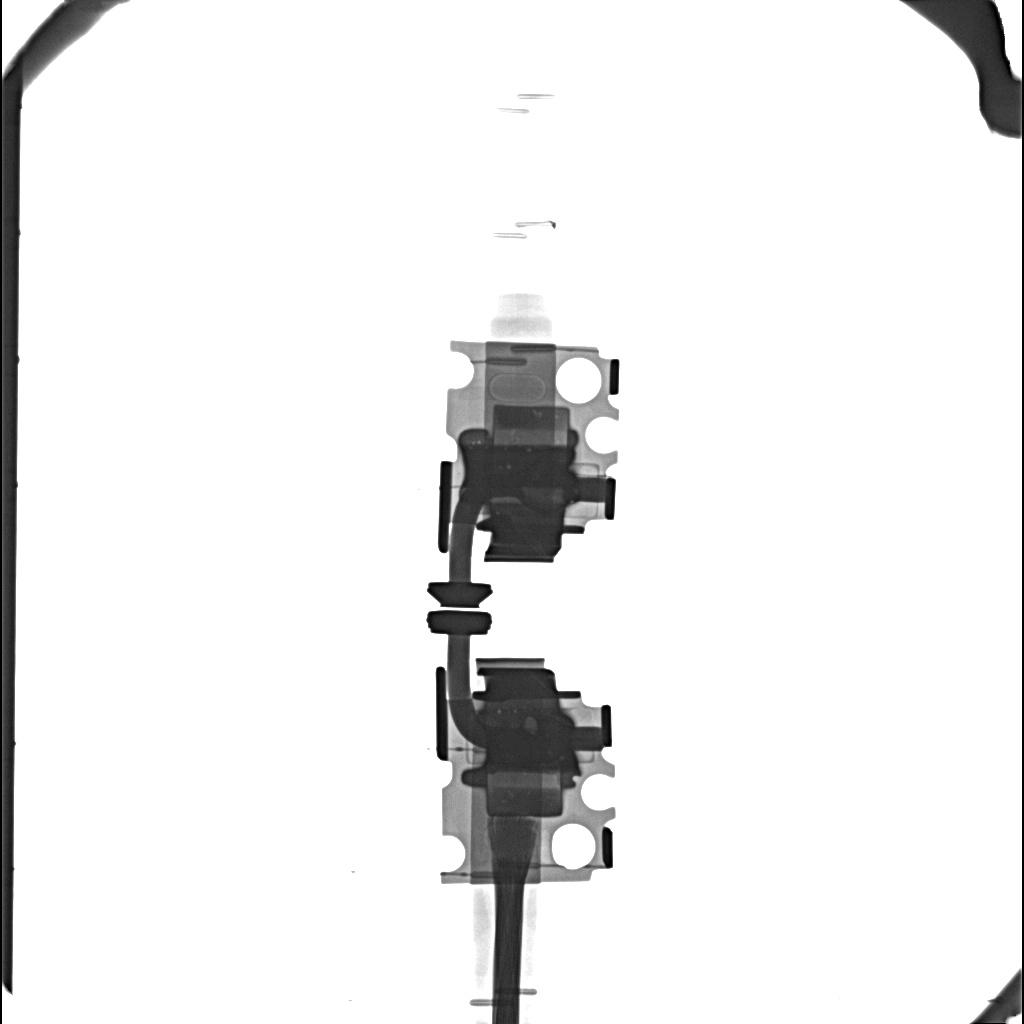气孔: (485, 775, 564, 819), (491, 404, 570, 443)
水纹: (462, 445, 574, 486), (488, 727, 572, 767)
